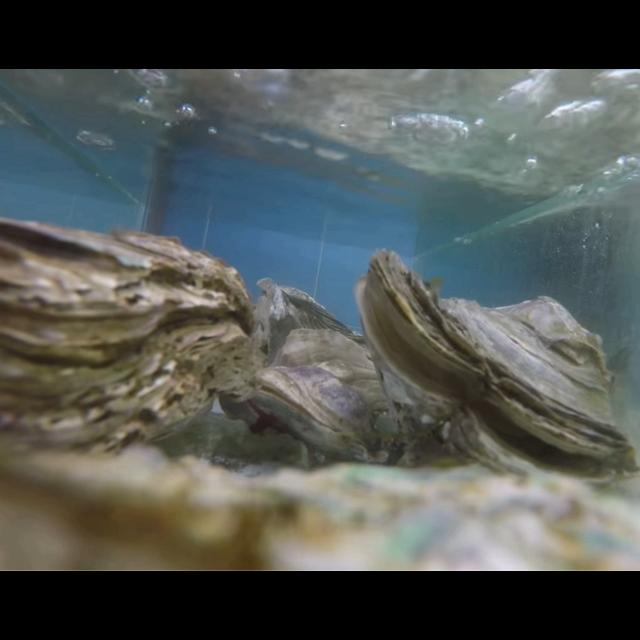Oyster-Closed: (0, 445, 640, 571), (0, 218, 256, 482), (254, 278, 370, 369)
Oyster-Open: (354, 249, 640, 493), (250, 329, 418, 466)
